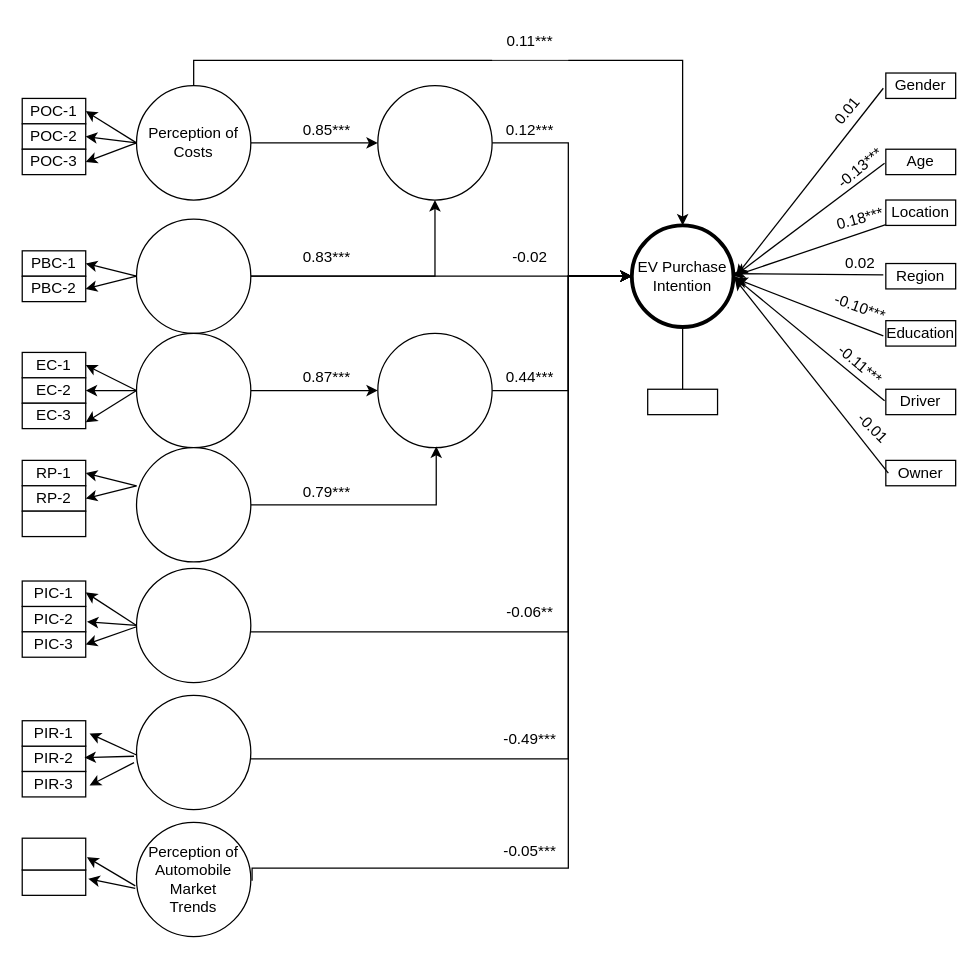
This 978x959 diagram has some shape labels left out. Each missing label, with the centre of its shape:
"Environmental Considerations" belongs at (x=193, y=390).
"INT" belongs at (x=682, y=401).
"PAM-1" belongs at (x=53, y=853).
"PAM-2" belongs at (x=53, y=882).
"Perceived Behavioral Control" belongs at (x=193, y=275).
"Perceived Utility" belongs at (x=434, y=142).
"Perception of ICE Costs" belongs at (x=193, y=625).
"Perception of ICE Reliability" belongs at (x=193, y=752).
"Personal Norms" belongs at (x=434, y=390).
"Risk Perceptions (RP)" belongs at (x=193, y=504).
"RP-3" belongs at (x=53, y=523).
